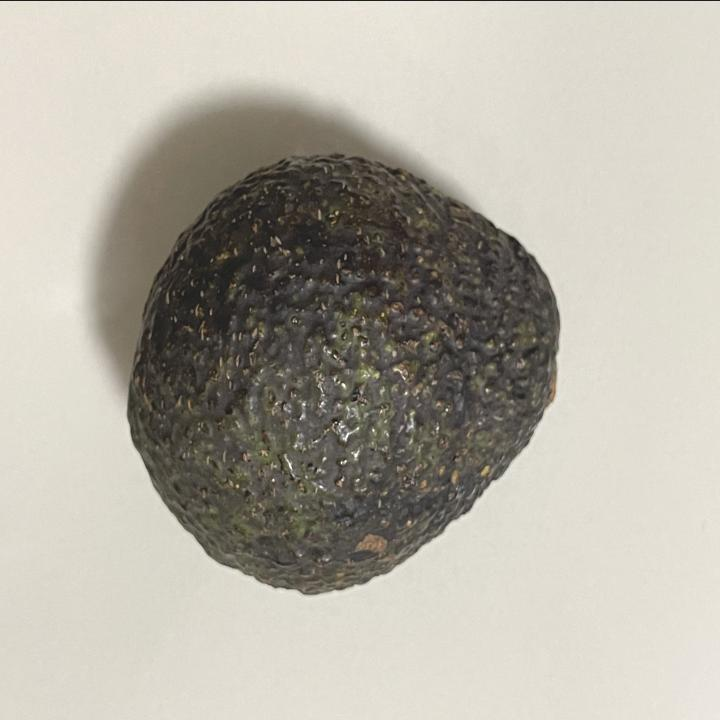Level2: (120, 145, 564, 602)
